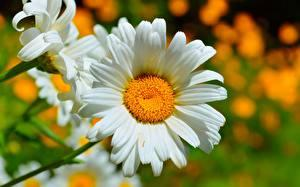chamomile: (86, 42, 211, 155), (28, 4, 93, 79)
